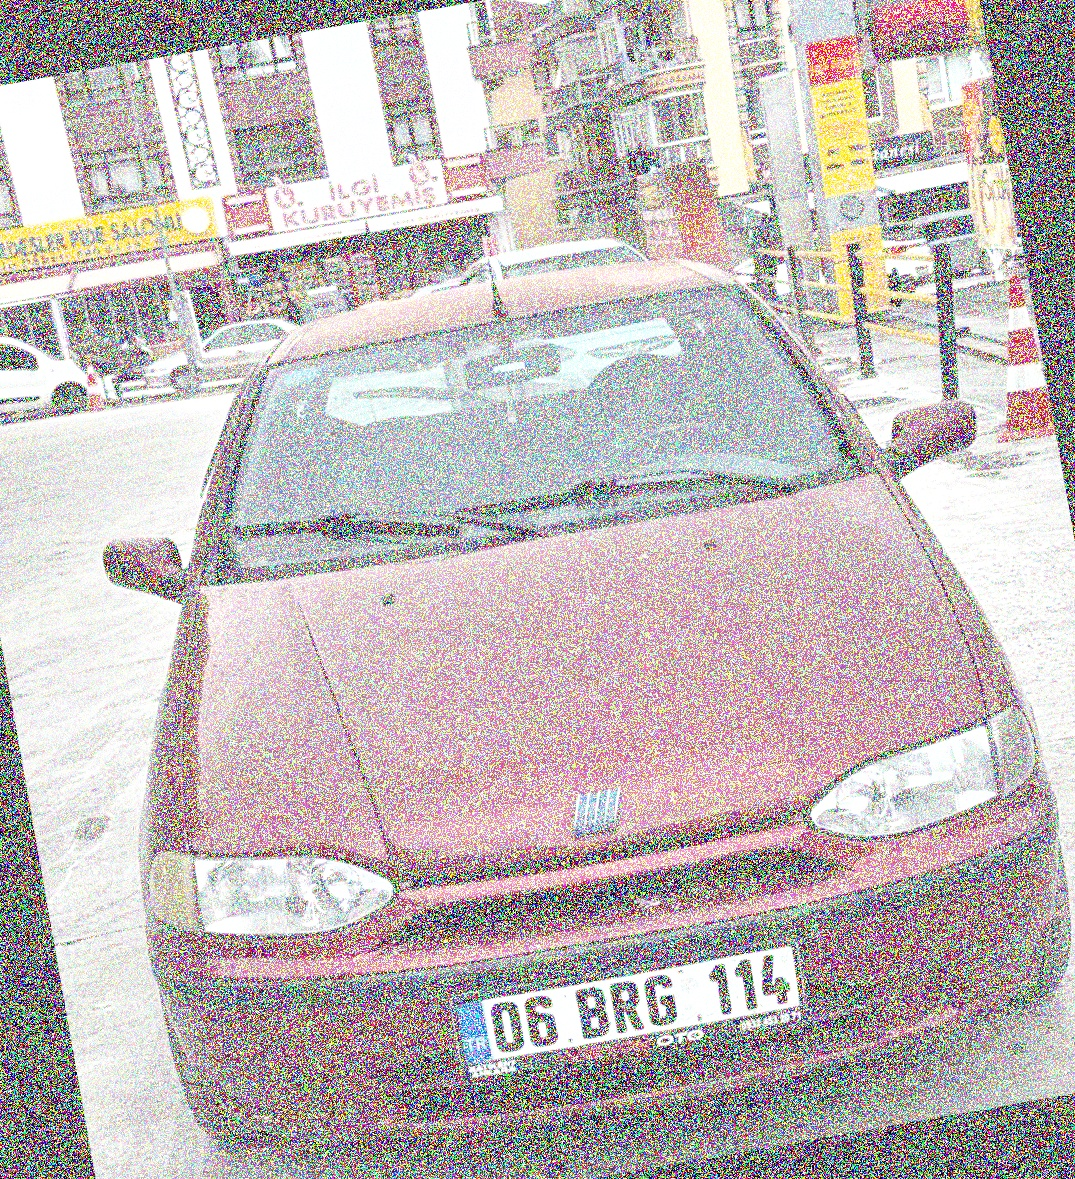plaka: (474, 944, 820, 1058)
